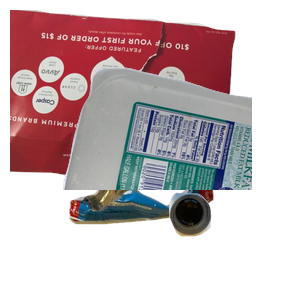glass: (166, 190, 300, 300)
paper: (10, 10, 238, 190)
plastic: (60, 65, 300, 245)
trash: (66, 173, 272, 300)
